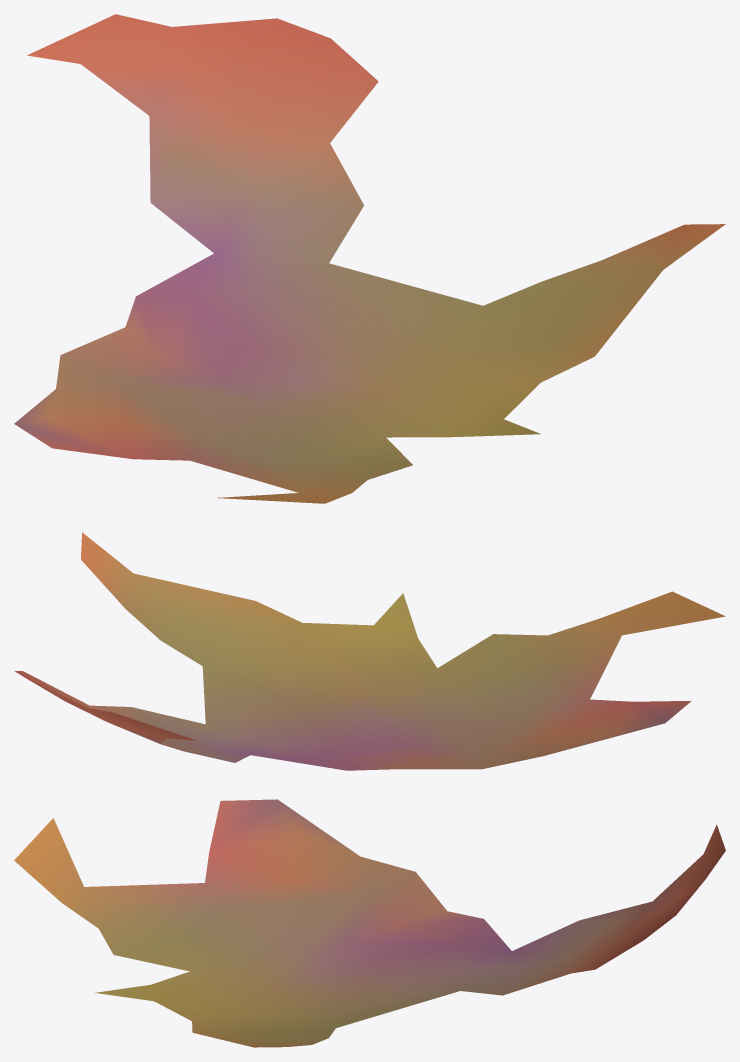
Rendered from space-galaxies-irregular-galaxy_v15.glb.
3 views of the same model, one above another, from view 1: azimuth 30°, elevation 25°; view 2: azimuth 150°, elevation 25°; view 3: azimuth 270°, elevation 25° (orthographic). The views are drawn at different scales.
Parts seen in each view (by area): view 1: Irregular Galaxy_v15; view 2: Irregular Galaxy_v15; view 3: Irregular Galaxy_v15.
Boxes of the visible parts, x1,y1,x2,y2 form: Irregular Galaxy_v15: [14, 14, 725, 503]; Irregular Galaxy_v15: [14, 532, 725, 770]; Irregular Galaxy_v15: [14, 799, 725, 1047].
Size of the model in its own units: 0.4663 by 0.1118 by 0.5.
